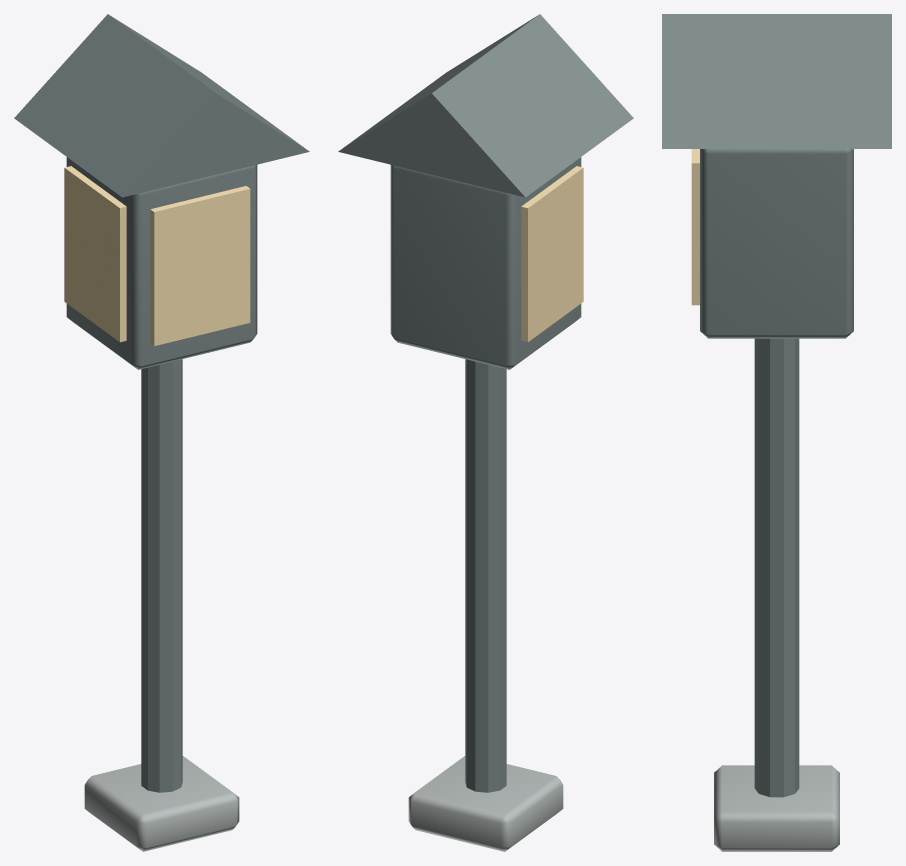
File: street-lantern.glb
3 renders of one model, left to right at view 1: azimuth 30°, elevation 25°; view 2: azimuth 150°, elevation 25°; view 3: azimuth 270°, elevation 25°, orthographic. The views are drawn at different scales.
Visible parts, largest first — view 1: Lantern cap, Iron post, Warm glass, Lantern frame, Foot, Warm glass.001; view 2: Lantern cap, Lantern frame, Iron post, Foot, Warm glass.001; view 3: Lantern cap, Lantern frame, Iron post, Foot, Warm glass.
Boxes of the visible parts, box(x1,y1,x2,y2) form: Lantern cap: box(14, 14, 309, 197); Iron post: box(141, 359, 182, 792); Warm glass: box(150, 186, 250, 346); Lantern frame: box(66, 157, 257, 369); Foot: box(84, 756, 239, 851); Warm glass.001: box(64, 166, 126, 342); Lantern cap: box(338, 14, 633, 197); Lantern frame: box(390, 157, 581, 369); Iron post: box(465, 359, 506, 792); Foot: box(408, 756, 563, 851); Warm glass.001: box(521, 166, 583, 342); Lantern cap: box(662, 14, 891, 148); Lantern frame: box(700, 149, 853, 338); Iron post: box(754, 338, 799, 797); Foot: box(714, 765, 839, 851); Warm glass: box(691, 149, 699, 305).
Size of the model in its own units: 0.82 by 3.21 by 0.82.
